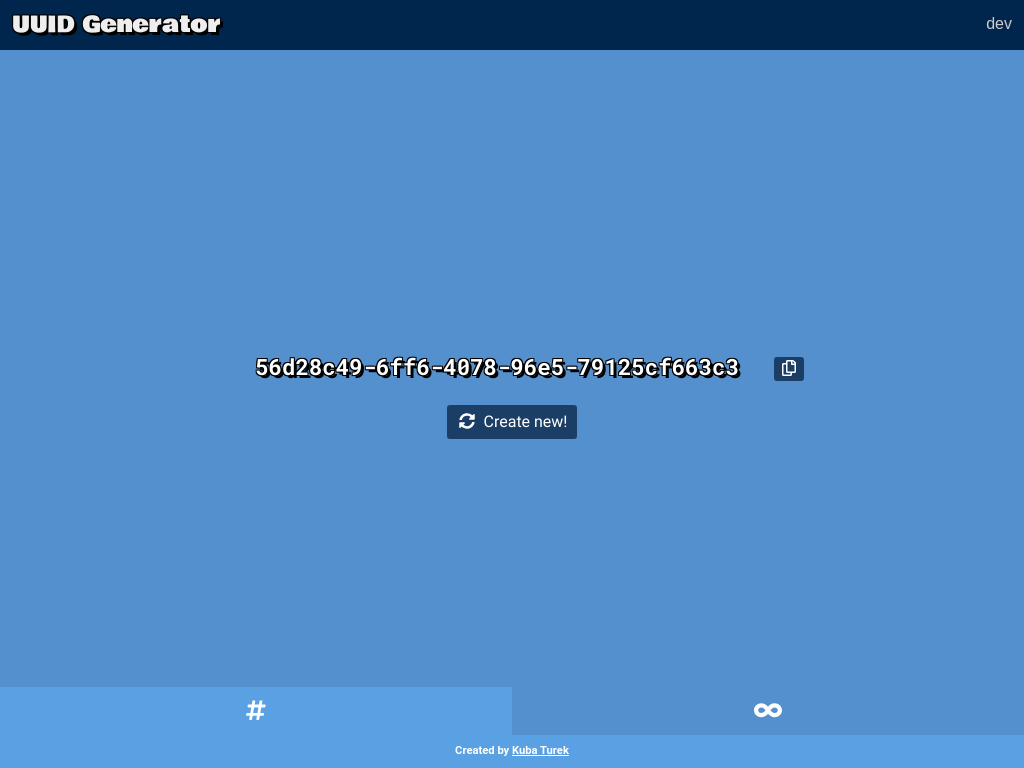
Test: Multi UUID generation › should define the size of the list
This screenshot has width=1024, height=768.
Click the button with test id "multi-mode-switcher" at (768, 712), box [512, 687, 1023, 737]
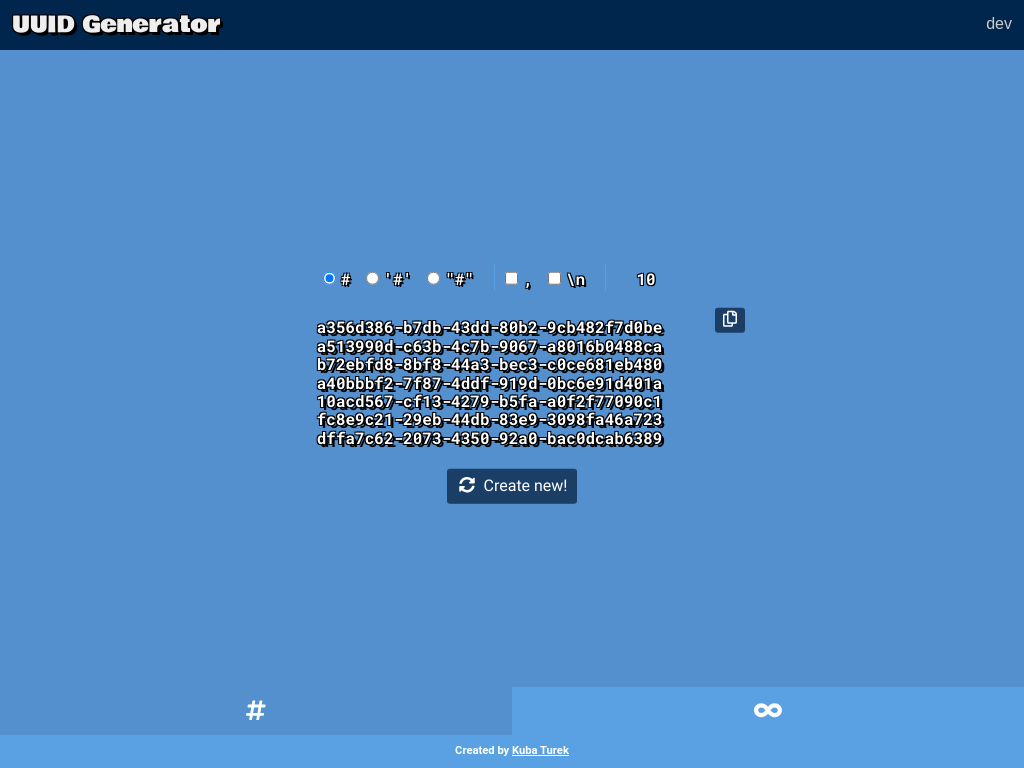
Replace the text in the number field with test id "size-selector" with "15" at (659, 279), box [616, 265, 701, 293]
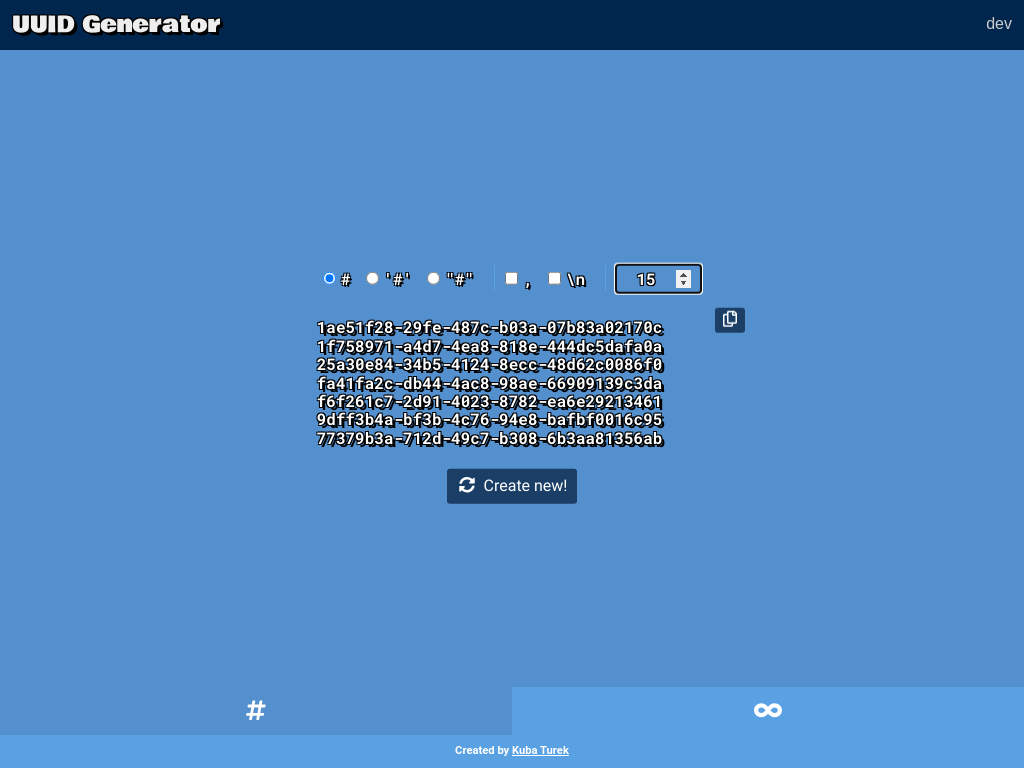
Result: the text box with test id "multi-uuid-value" holds "([0-9a-f\\-]+\\s){14}([0-9a-f\\-]+)" at [285, 308, 695, 448]
